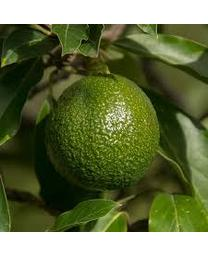avocado: (45, 74, 163, 191)
